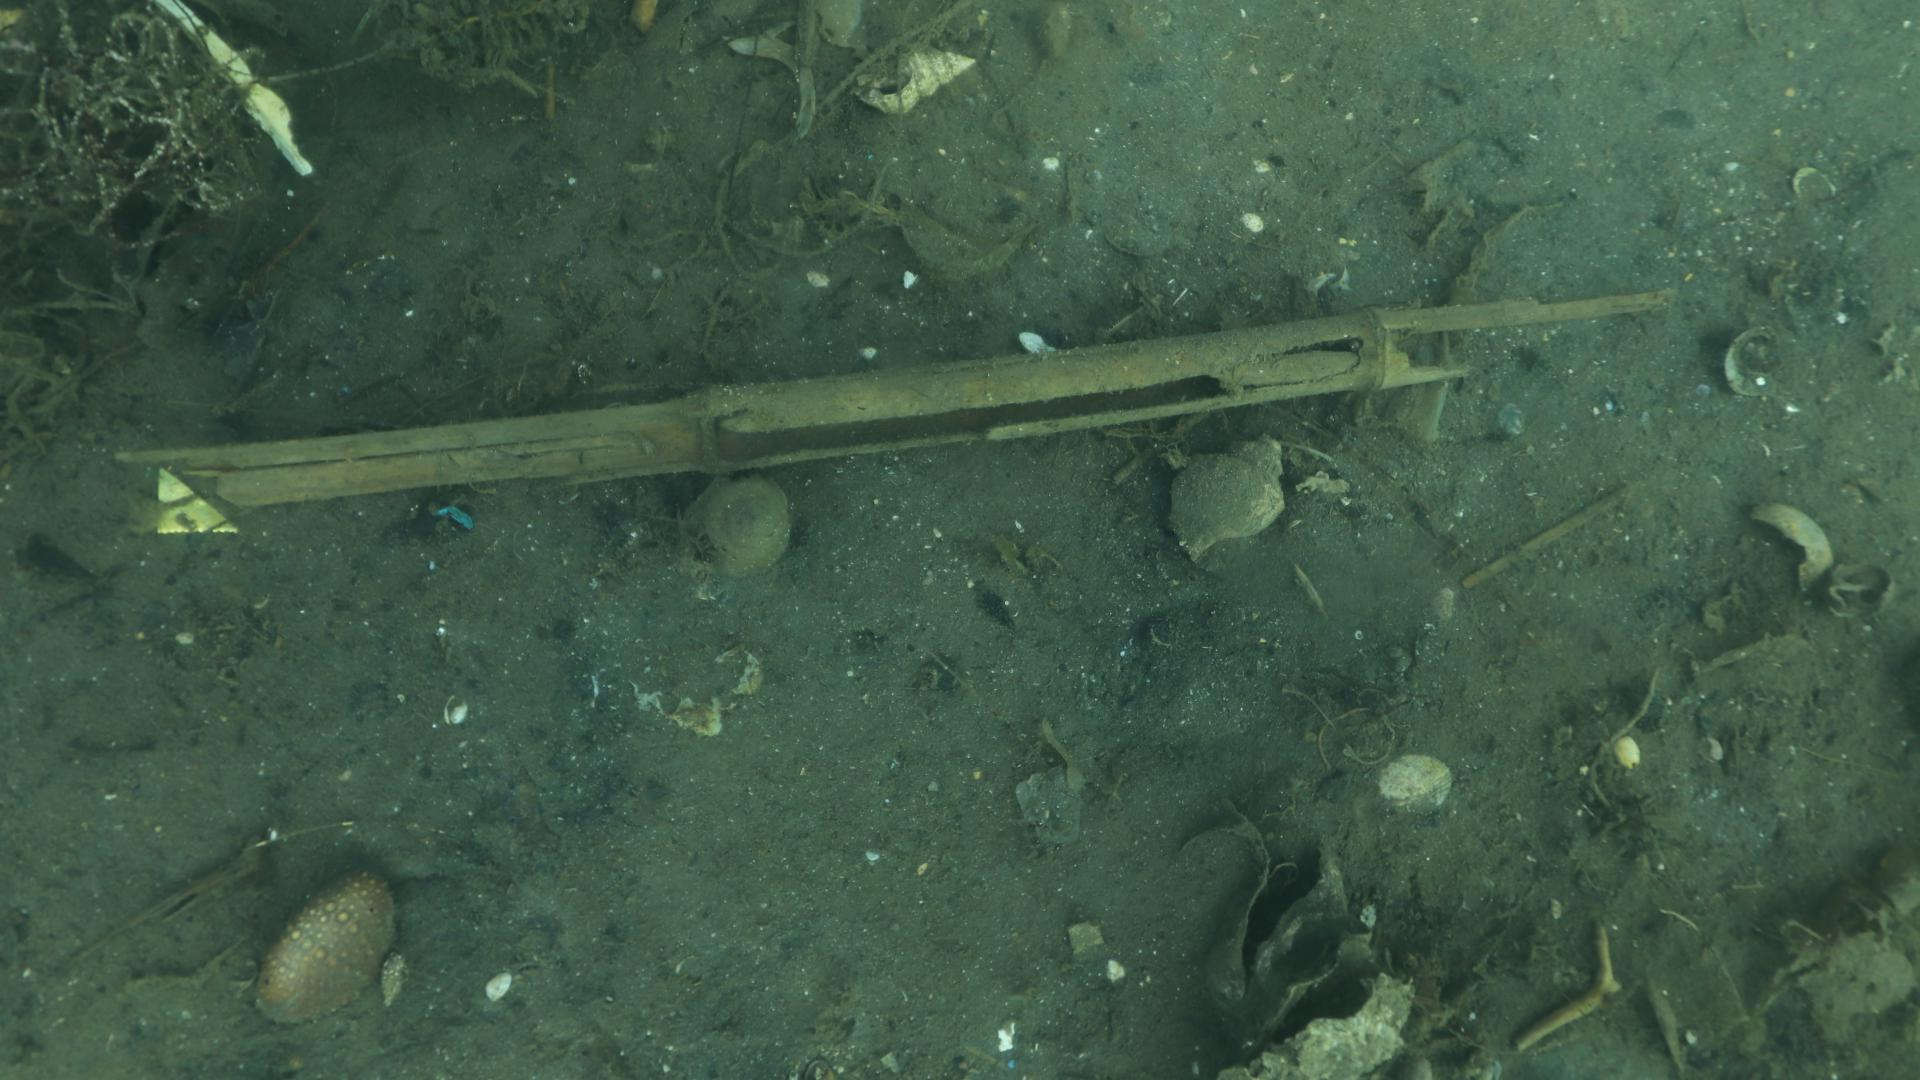wood: (109, 284, 1679, 508)
